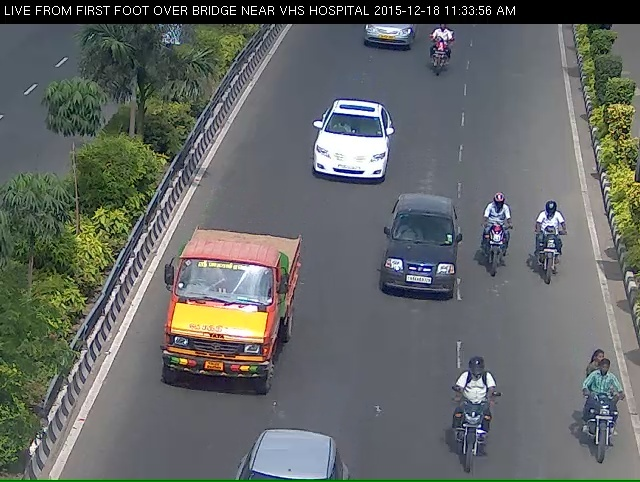Bus: (155, 237, 290, 417)
Car: (371, 207, 478, 329), (302, 112, 397, 196), (357, 18, 412, 51)
Person: (440, 390, 505, 479), (580, 374, 626, 481), (526, 202, 572, 307), (475, 187, 513, 292), (425, 20, 469, 105)
